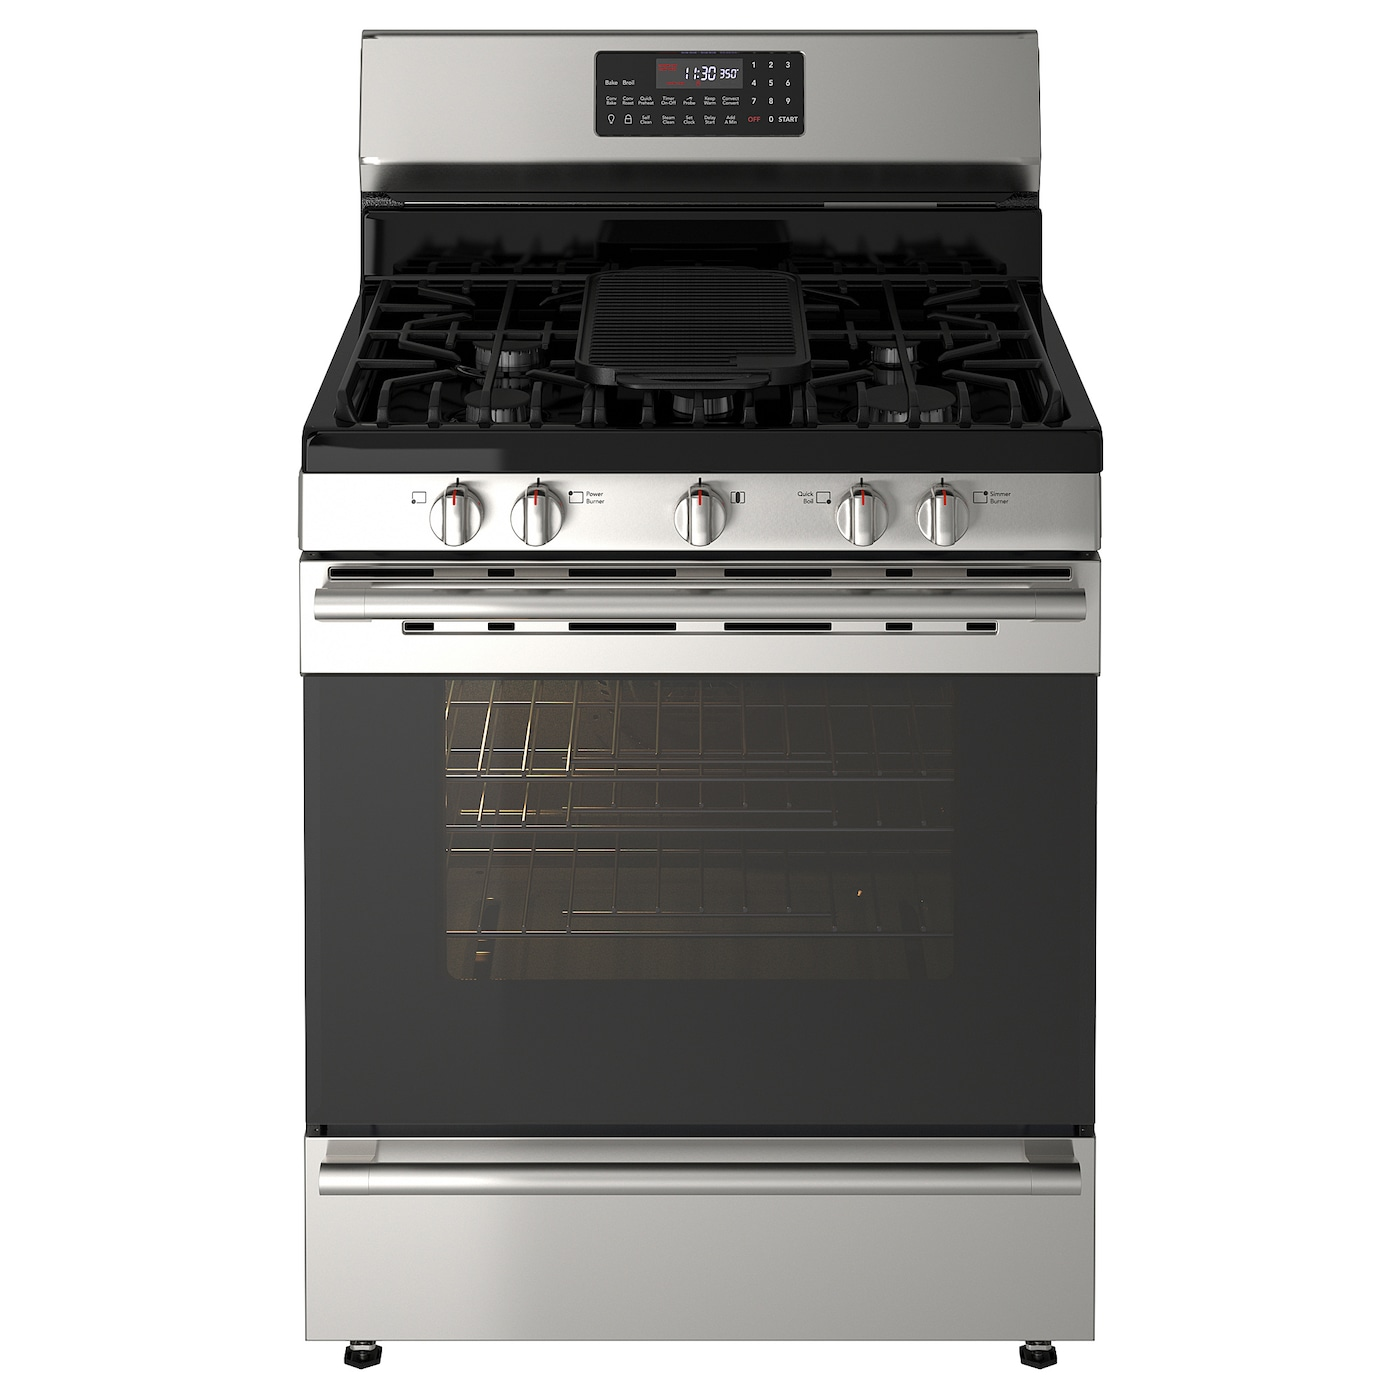stove: (229, 6, 1162, 1373)
